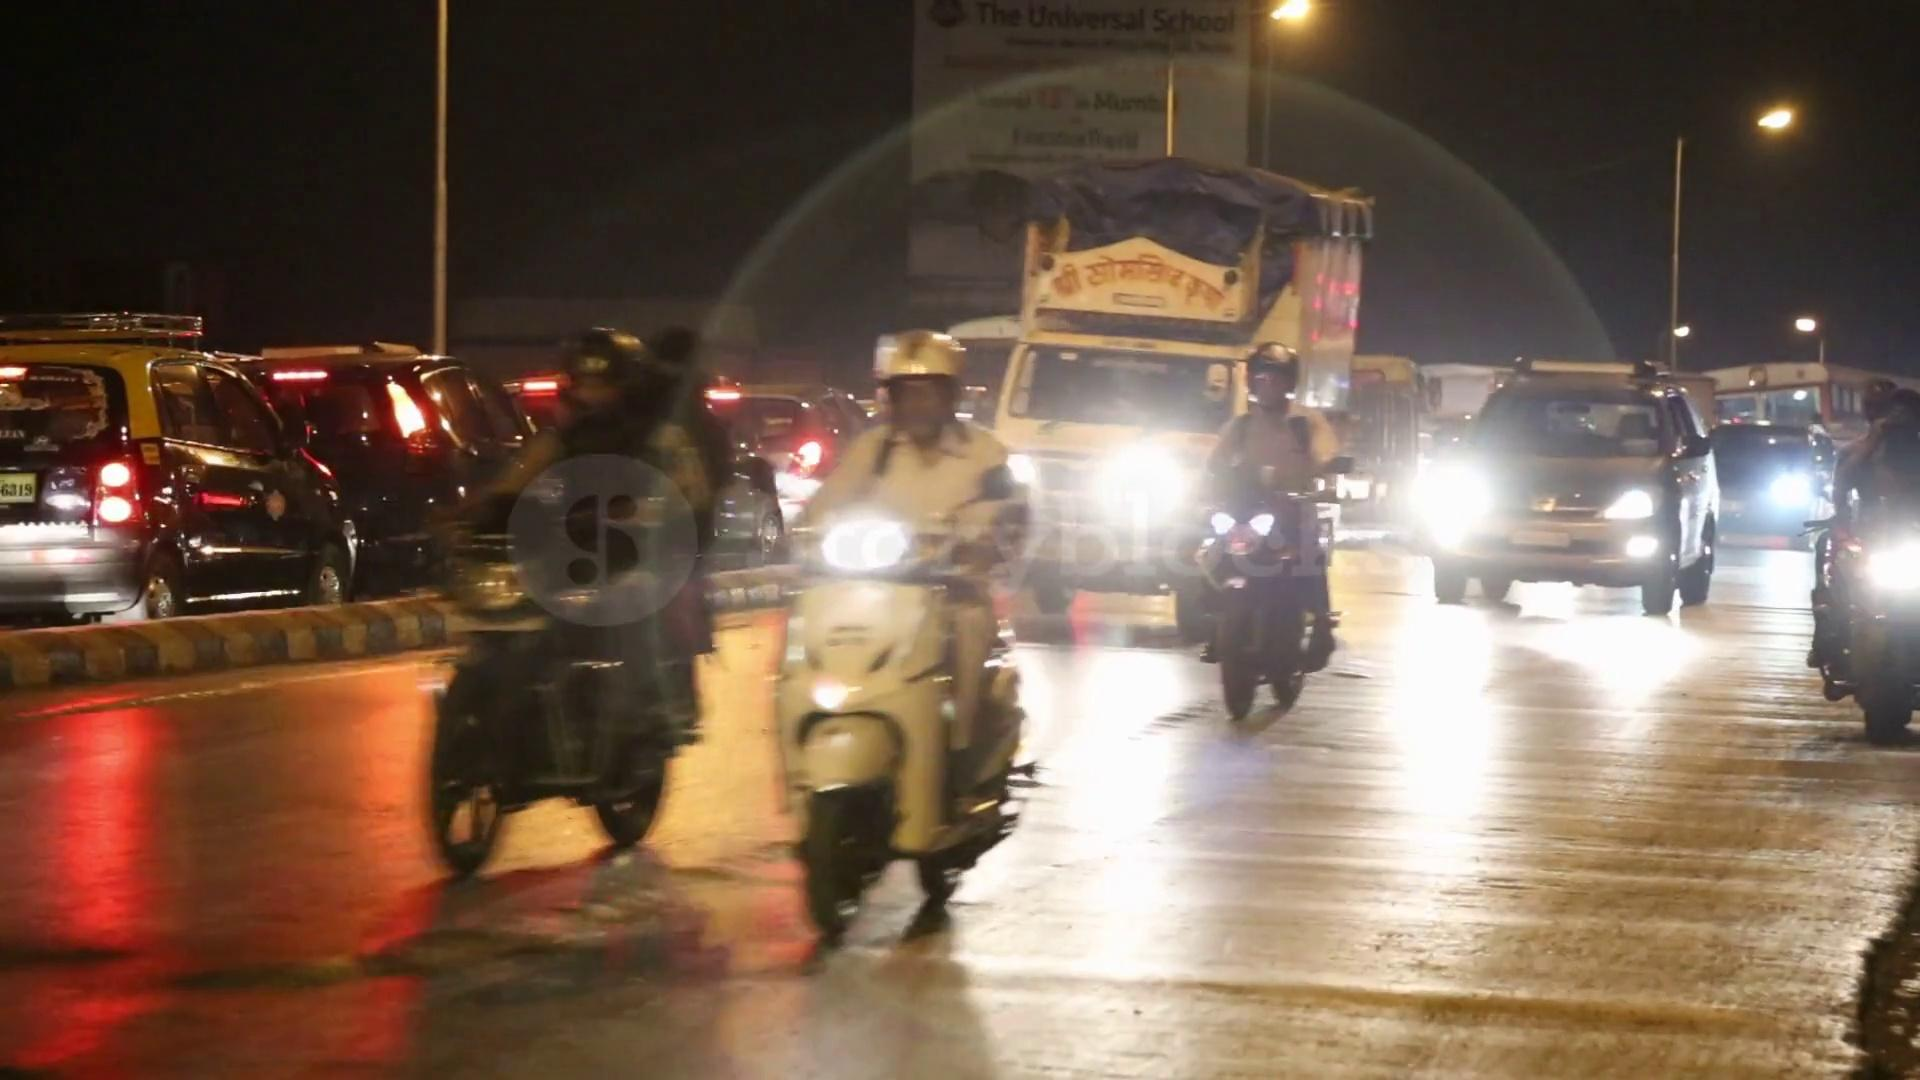rider: (779, 328, 1031, 946), (425, 323, 720, 803), (1181, 340, 1351, 702), (1814, 371, 1916, 734)
with_helmate: (876, 336, 980, 437), (543, 337, 639, 419), (1240, 349, 1307, 403)
